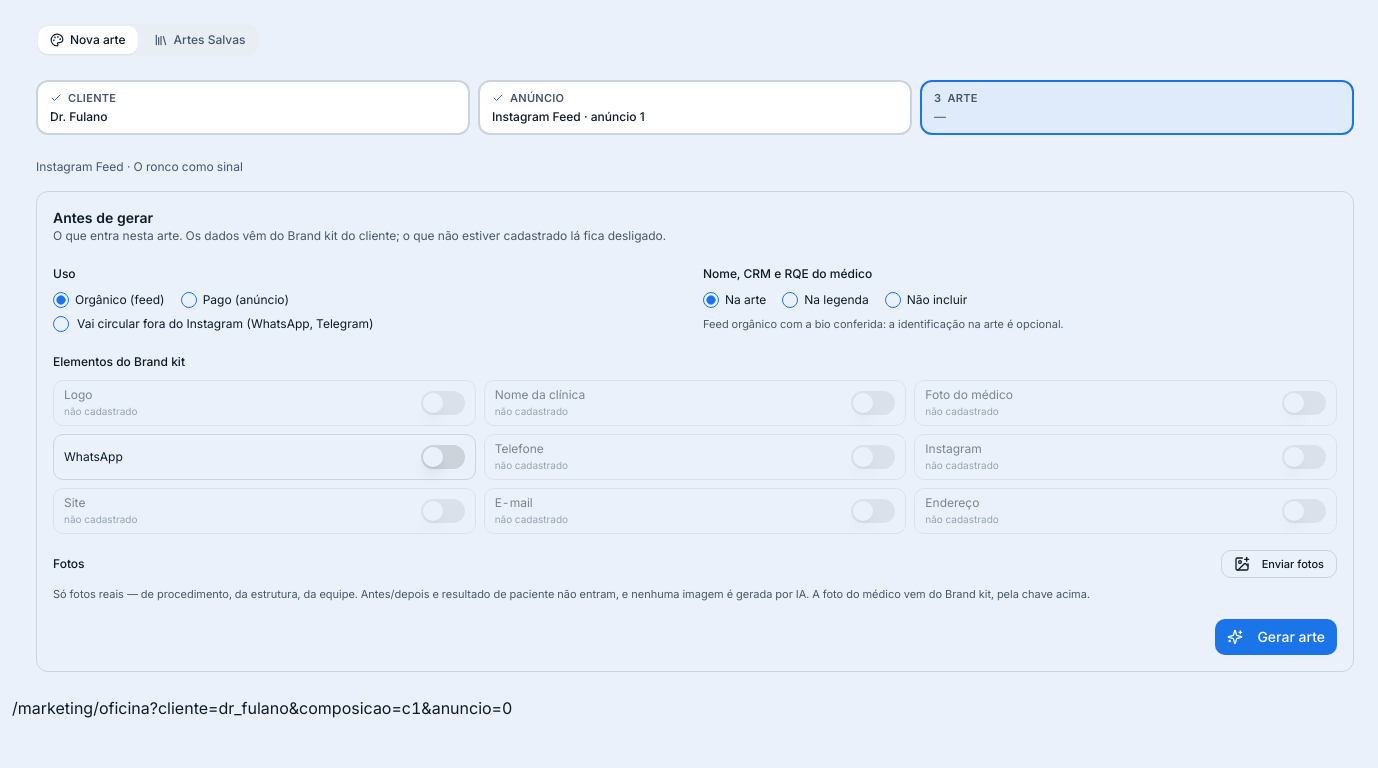
it: Oficina › Nova arte › com a bio conferida libera 'Não incluir'; pago volta a travar
Expected: the button "Gerar arte" is shown, [1215,618,1337,654]
Expected: the radio button named "Não incluir" next to "Não incluir" is enabled, [885,292,901,308]
Click the radio button named "Pago (anúncio)" next to "Pago (anúncio)" at {"x": 189, "y": 300}, box [181,292,197,308]
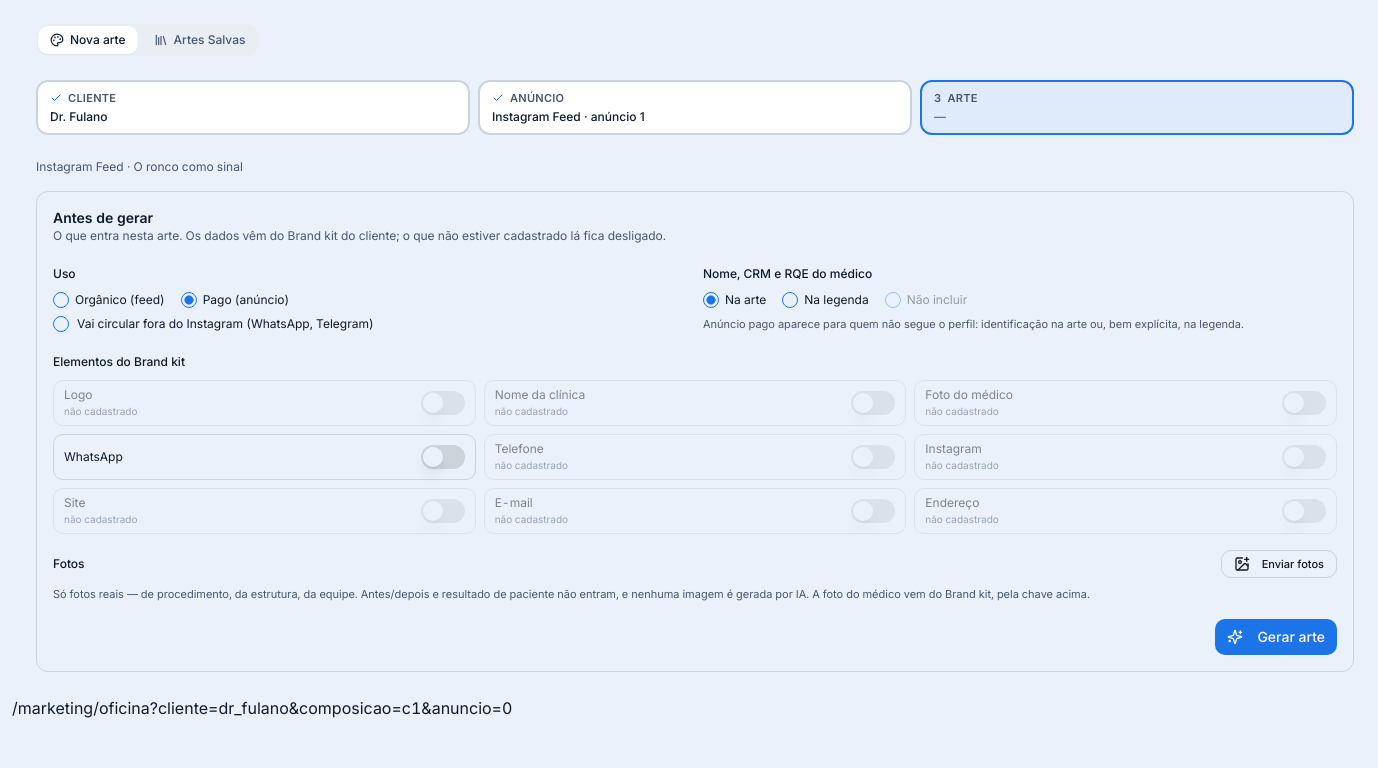
Expected: the 4th radio button named "Na legenda" is enabled, [782,292,798,308]
Result: the radio button named "Não incluir" next to "Não incluir" is disabled at [885,292,901,308]
